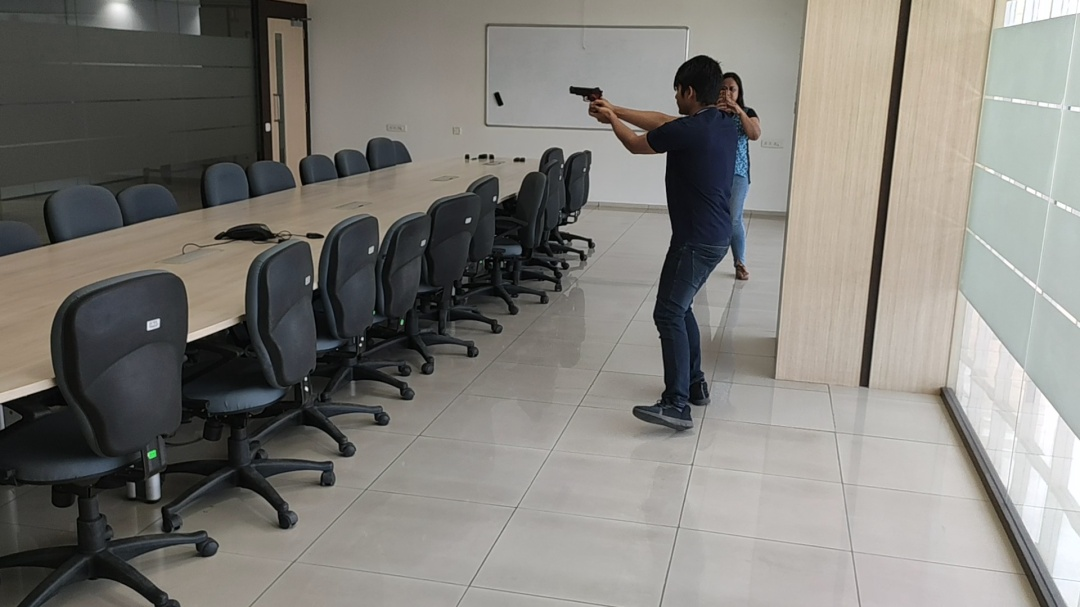gun: (566, 80, 606, 103)
